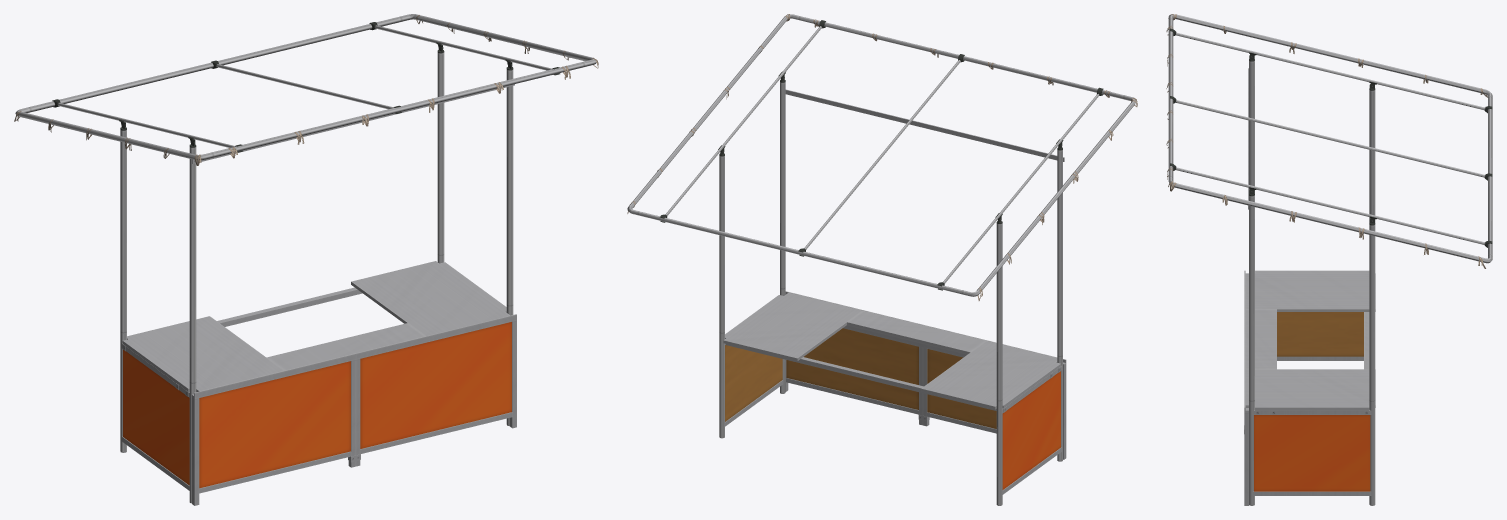
File: jsf_4P_s02_c01_t02.fbx
3 renders of one model, left to right at view 1: azimuth 30°, elevation 25°; view 2: azimuth 150°, elevation 25°; view 3: azimuth 270°, elevation 25°, orthographic. The views are drawn at different scales.
Parts seen in each view (by area): view 1: Base_s02_c01, Pillar4_s02, Table_4P_s02_t02, Rope_4P_s02; view 2: Base_s02_c01, Pillar4_s02, Table_4P_s02_t02, Rope_4P_s02; view 3: Base_s02_c01, Pillar4_s02, Table_4P_s02_t02, Rope_4P_s02.
Boxes of the visible parts, x1,y1,x2,y2 form: Base_s02_c01: [121, 314, 516, 505]; Pillar4_s02: [15, 14, 596, 503]; Table_4P_s02_t02: [122, 261, 509, 396]; Rope_4P_s02: [14, 15, 598, 165]; Base_s02_c01: [725, 291, 1066, 494]; Pillar4_s02: [627, 14, 1136, 505]; Table_4P_s02_t02: [723, 292, 1061, 412]; Rope_4P_s02: [627, 14, 1137, 300]; Base_s02_c01: [1244, 270, 1371, 505]; Pillar4_s02: [1168, 14, 1492, 505]; Table_4P_s02_t02: [1245, 270, 1375, 414]; Rope_4P_s02: [1166, 14, 1487, 268].
Size of the model in its own units: 264 by 243 by 211.
